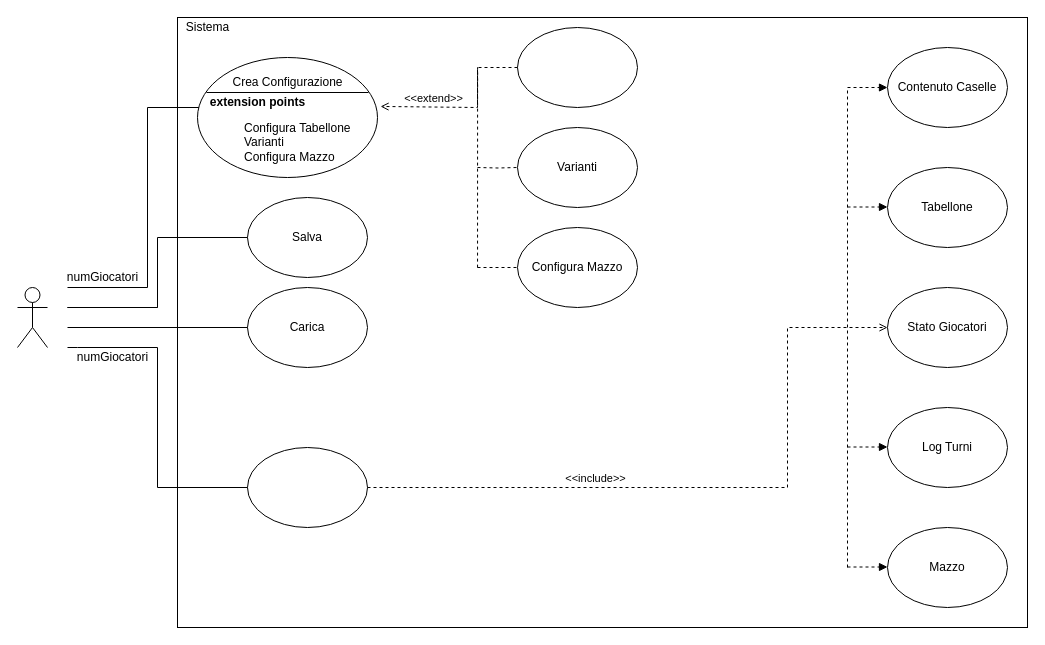
Image size: 1045x645. Some labels were removed from this diagram. The box of each missing label's shape, as (x1, y1, x2, y2) in pixels:
Actor: (16, 286, 48, 348)
Configura Tabellone: (516, 26, 638, 108)
Osserva: (246, 446, 368, 528)
